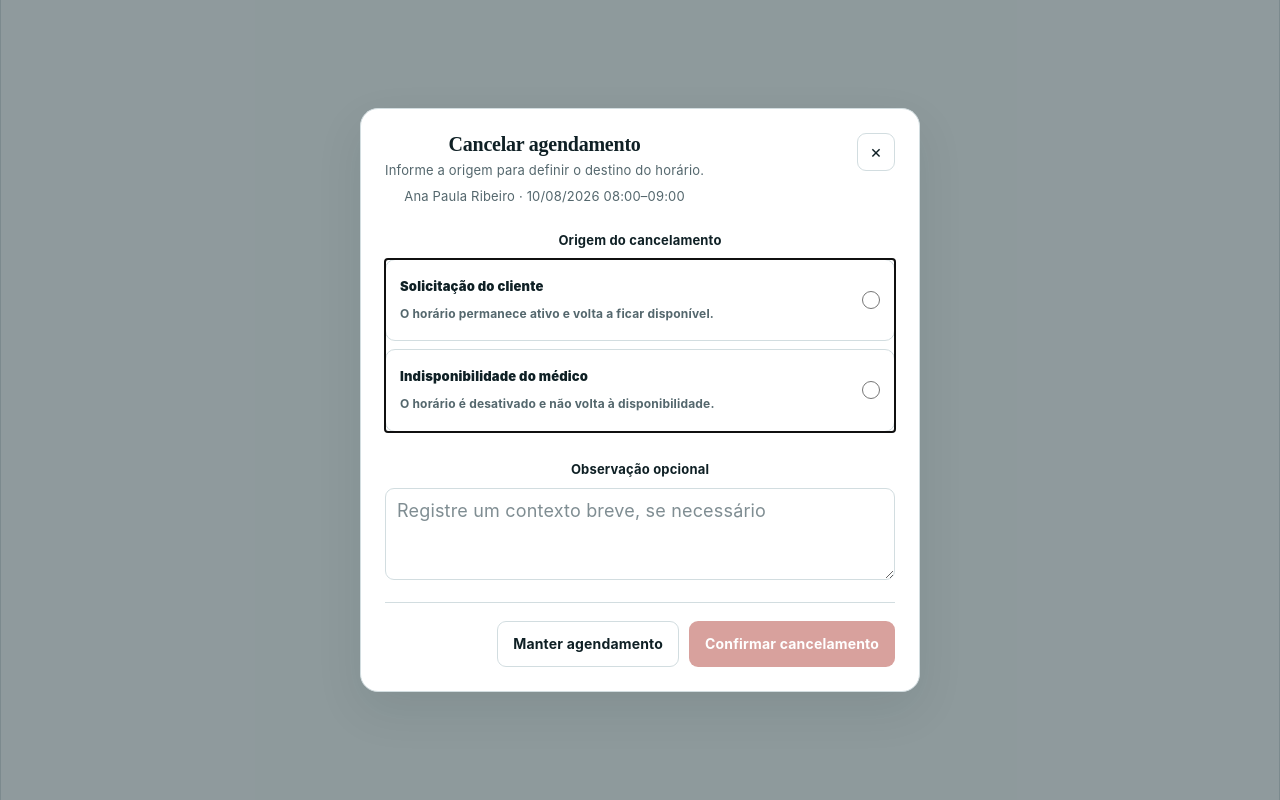
CancelamentoModal › inicia com o botão Confirmar desabilitado e habilita ao selecionar a origem
Expected: the button "Confirmar cancelamento" is disabled, [689,621,895,667]
Click the radio button labelled "Solicitação do cliente" at (871, 300), box [862,291,880,309]
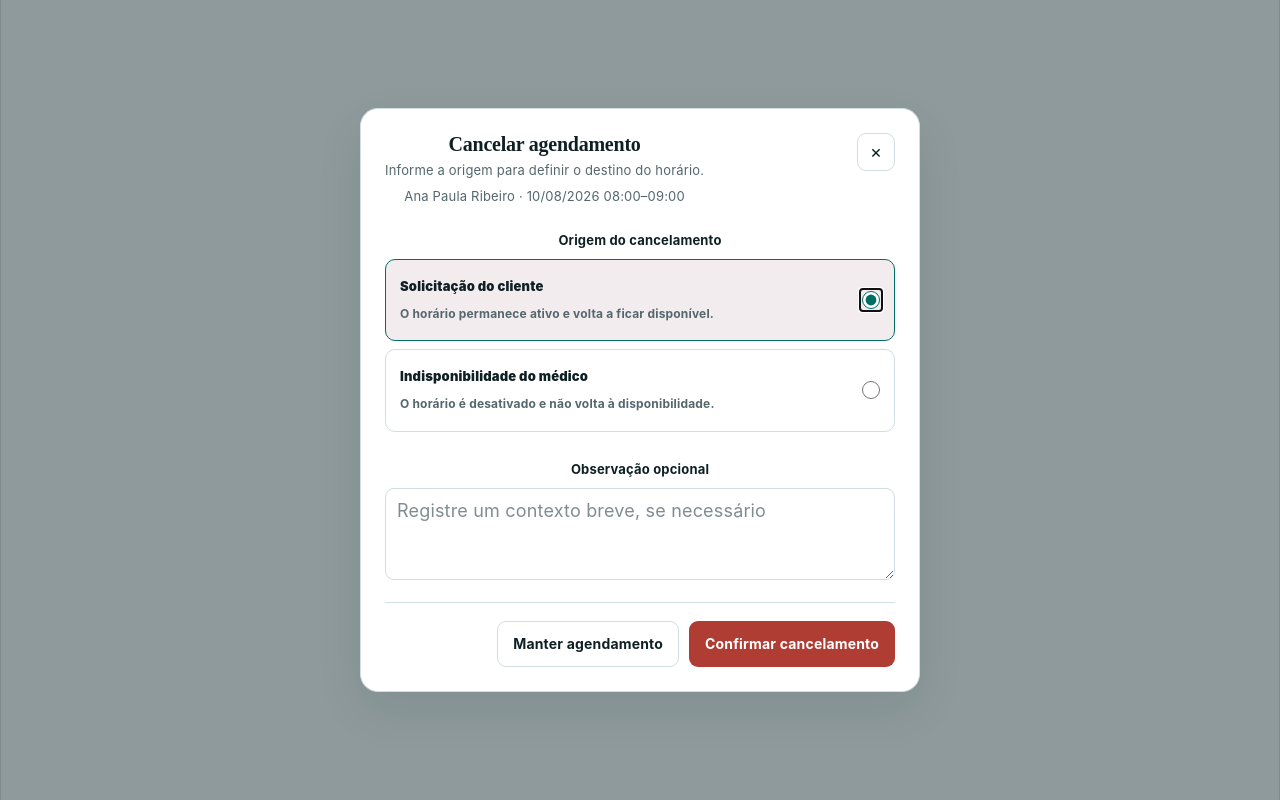
Result: the button "Confirmar cancelamento" is enabled at [689,621,895,667]
